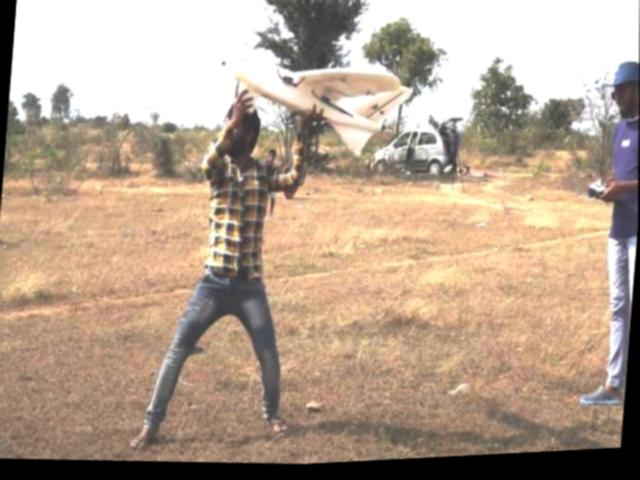iha: (208, 37, 418, 173)
